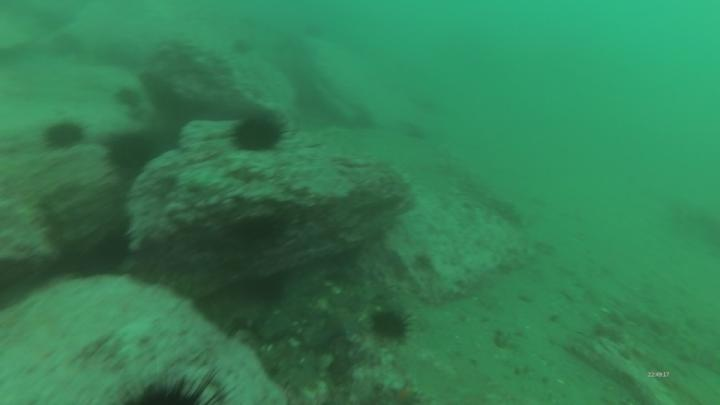echinus: (117, 369, 238, 405), (227, 112, 291, 154), (102, 129, 157, 175), (369, 305, 416, 344), (42, 118, 90, 153), (240, 212, 281, 248), (51, 32, 82, 59), (112, 83, 142, 110), (229, 36, 256, 57)
holothurian: (1, 172, 67, 269)
starfish: (388, 377, 426, 405)
